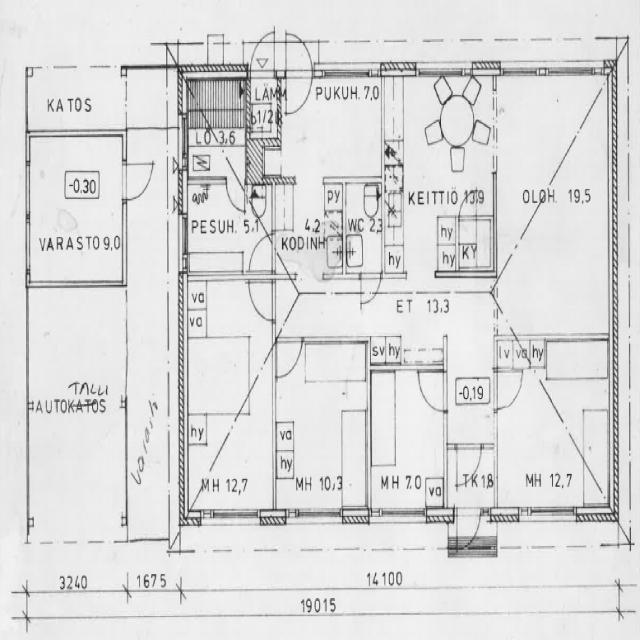door: (283, 34, 315, 116), (415, 366, 448, 416), (453, 440, 485, 490), (246, 275, 278, 324), (274, 333, 304, 382), (453, 504, 482, 554), (122, 158, 154, 203), (248, 30, 278, 78), (494, 366, 524, 413), (244, 234, 274, 278), (358, 269, 383, 310), (591, 64, 606, 90)
window: (199, 507, 261, 530), (284, 506, 343, 530), (522, 502, 578, 527), (371, 505, 426, 528), (318, 64, 378, 82), (414, 62, 468, 79), (501, 62, 546, 80), (177, 212, 191, 264), (22, 535, 34, 593)
zone: (492, 66, 615, 346), (387, 72, 496, 280), (184, 278, 269, 522), (496, 340, 611, 514), (274, 338, 368, 516), (25, 134, 125, 278), (369, 366, 447, 514), (282, 76, 386, 180), (270, 181, 342, 279), (183, 178, 250, 274), (183, 74, 249, 145), (343, 181, 383, 276), (248, 74, 281, 140), (446, 374, 495, 415)
